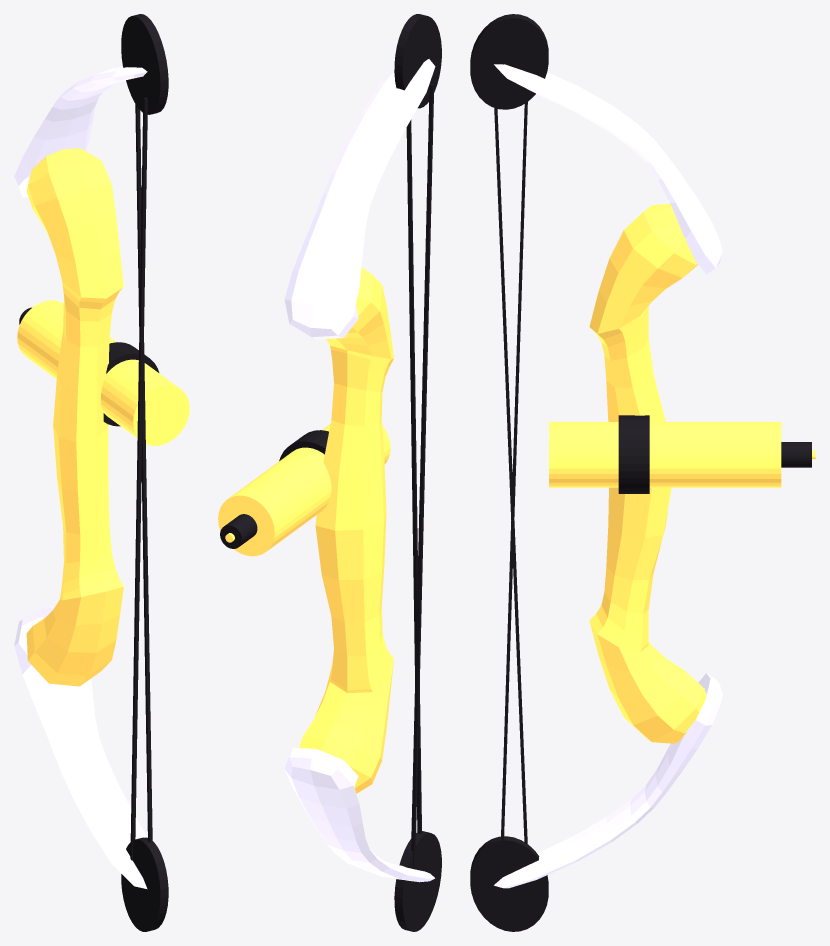
Rendered from bowbase 1.fbx.
The picture shows the model from 3 angles, left to right: view 1: azimuth 30°, elevation 25°; view 2: azimuth 150°, elevation 25°; view 3: azimuth 270°, elevation 25°; orthographic projection.
Parts seen in each view (by area): view 1: Cube, Cube.001, Cylinder, Cylinder.008, Cube.004, Cube.002, Cylinder.003; view 2: Cube, Cube.001, Cylinder, Cylinder.008, Cube.004, Cube.002, Cylinder.002, Cylinder.003; view 3: Cube, Cube.001, Cylinder, Cylinder.008, Cube.002, Cube.004, Cylinder.003, Cylinder.002.
Part boxes in pixels (x1,y1,x2,y2): Cube: (26, 148, 123, 686); Cube.001: (14, 66, 147, 889); Cylinder: (17, 300, 189, 445); Cylinder.008: (121, 14, 168, 931); Cube.004: (130, 97, 147, 860); Cube.002: (135, 104, 152, 842); Cylinder.003: (103, 342, 159, 426); Cube: (299, 267, 393, 793); Cube.001: (284, 59, 435, 882); Cylinder: (218, 424, 390, 556); Cylinder.008: (394, 14, 441, 931); Cube.004: (411, 84, 434, 869); Cube.002: (406, 119, 421, 833); Cylinder.002: (220, 514, 257, 548); Cylinder.003: (279, 430, 328, 460); Cube: (589, 204, 706, 743); Cube.001: (494, 64, 722, 888); Cylinder: (549, 422, 781, 487); Cylinder.008: (470, 14, 548, 931); Cube.002: (501, 102, 527, 840); Cube.004: (494, 108, 527, 844); Cylinder.003: (618, 415, 649, 493); Cylinder.002: (781, 442, 811, 467).
Size of the model in its own units: 57.4 by 471 by 161.
